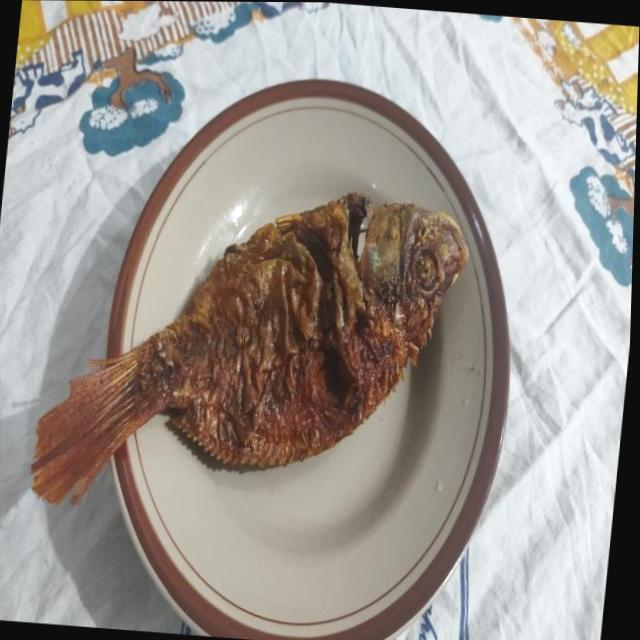ikan_mujair: (31, 192, 468, 503)
